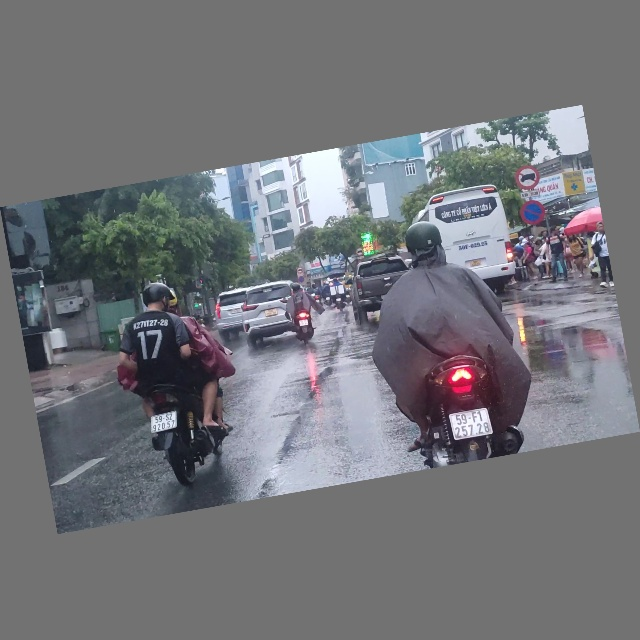P.106a*Xe tai: (513, 164, 543, 193), (355, 248, 365, 257), (296, 267, 304, 275)
P.131a: (517, 198, 548, 228), (298, 276, 305, 284)
